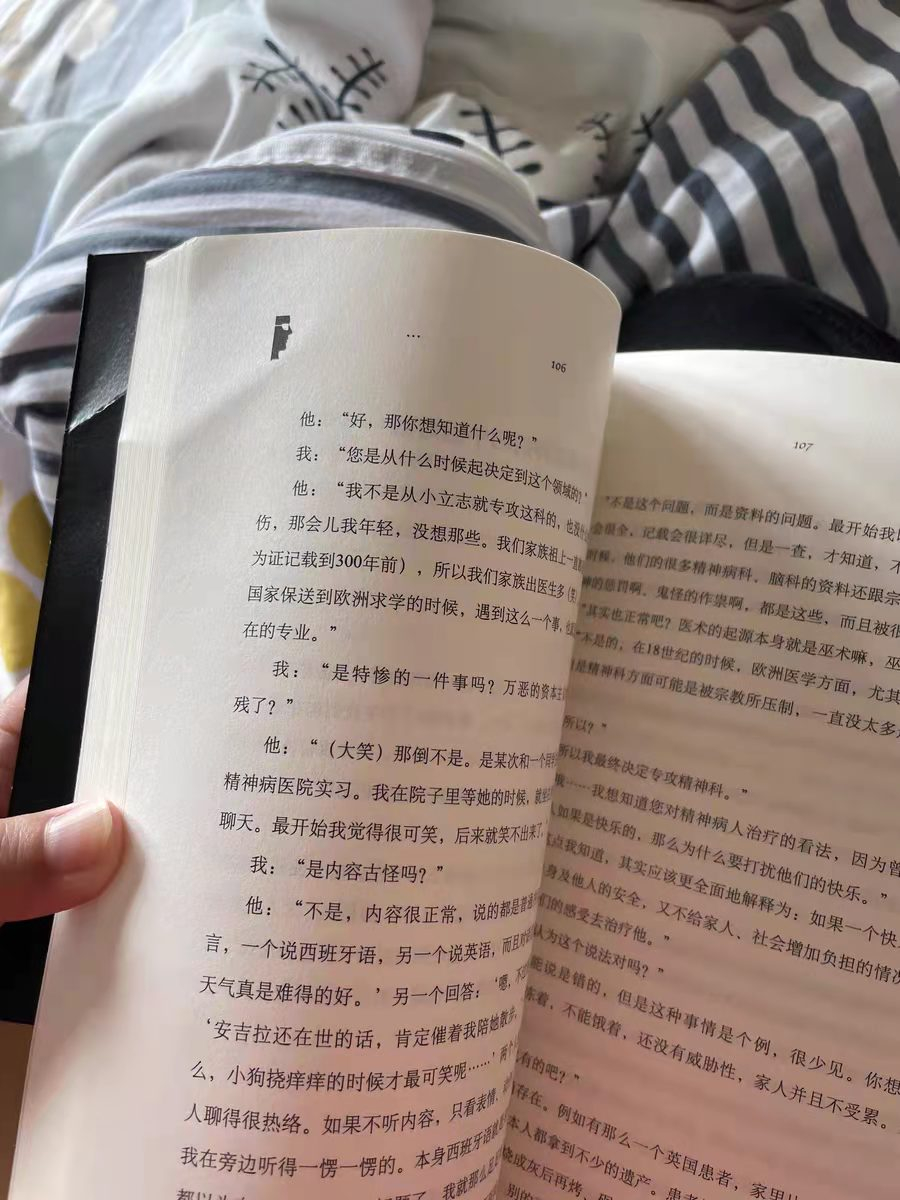book: (3, 213, 897, 1196)
